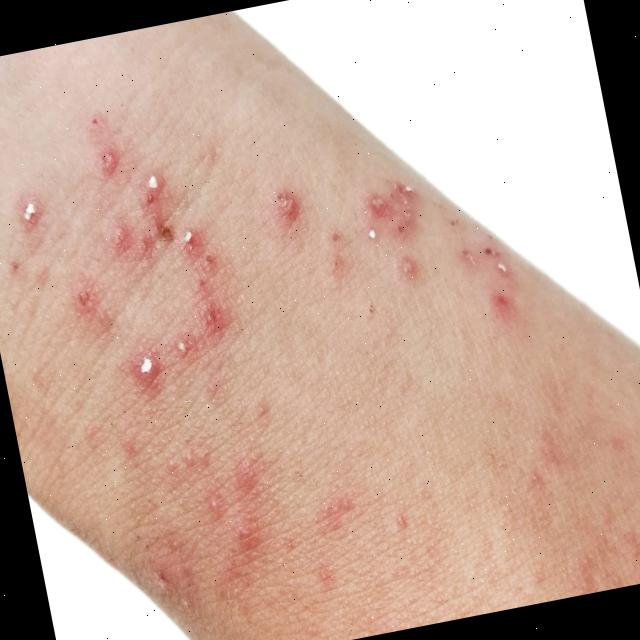kan emici bocekler: (357, 171, 431, 256), (460, 240, 523, 332), (178, 220, 235, 308), (62, 270, 125, 349), (118, 331, 181, 409), (132, 170, 188, 256), (78, 103, 132, 190), (102, 204, 163, 280), (265, 171, 317, 247), (6, 182, 64, 248), (183, 289, 243, 351), (306, 485, 364, 549), (162, 313, 211, 380), (197, 470, 242, 539), (392, 245, 427, 296), (447, 213, 466, 234)
